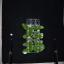leaf: (39, 40, 45, 49), (22, 23, 28, 31), (32, 44, 38, 52), (38, 46, 44, 52), (22, 34, 29, 39), (22, 49, 28, 54), (33, 33, 38, 39), (38, 34, 44, 39), (28, 28, 32, 35), (29, 41, 33, 48), (32, 26, 38, 30), (38, 26, 44, 30), (34, 39, 38, 45), (23, 42, 28, 46)
